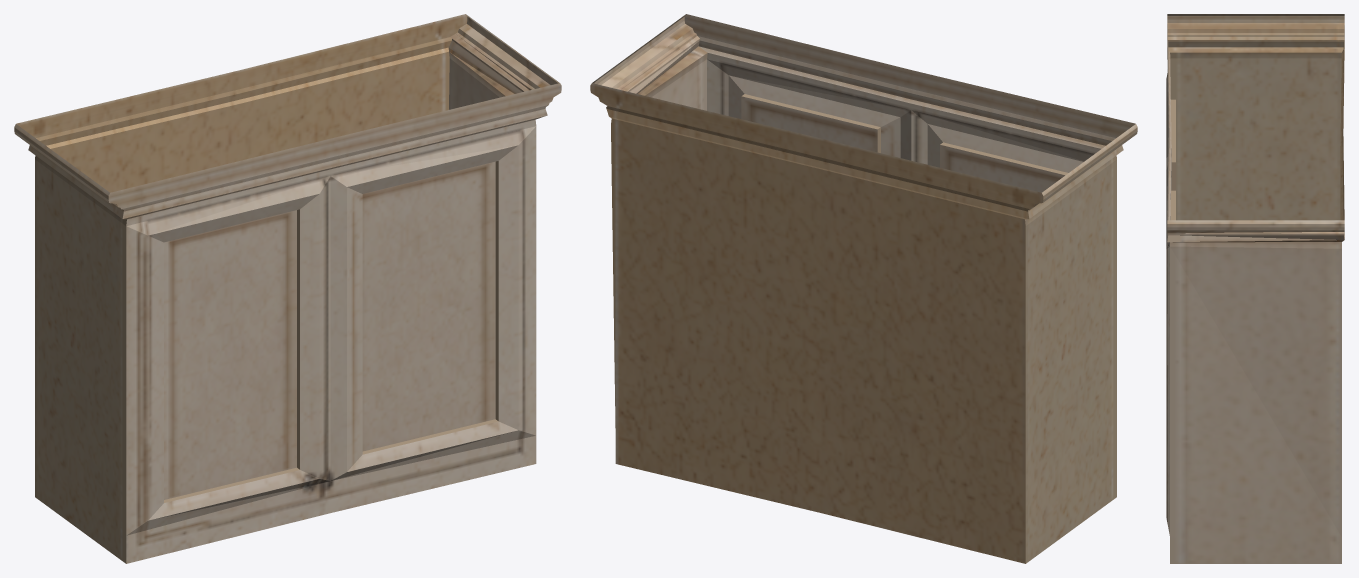
File: KitchenDrawerBase.fbx
3 renders of one model, left to right at view 1: azimuth 30°, elevation 25°; view 2: azimuth 150°, elevation 25°; view 3: azimuth 270°, elevation 25°, orthographic. The views are drawn at different scales.
Visible parts, largest first — view 1: KitchenDrawerBase_Low; view 2: KitchenDrawerBase_Low; view 3: KitchenDrawerBase_Low.
Boxes of the visible parts, left/top/right/bottom form: KitchenDrawerBase_Low: left=14, top=14, right=561, bottom=563; KitchenDrawerBase_Low: left=590, top=14, right=1137, bottom=563; KitchenDrawerBase_Low: left=1166, top=14, right=1344, bottom=563.
Bounding box in the file's own units: 1.06 × 0.8434 × 0.3854.
